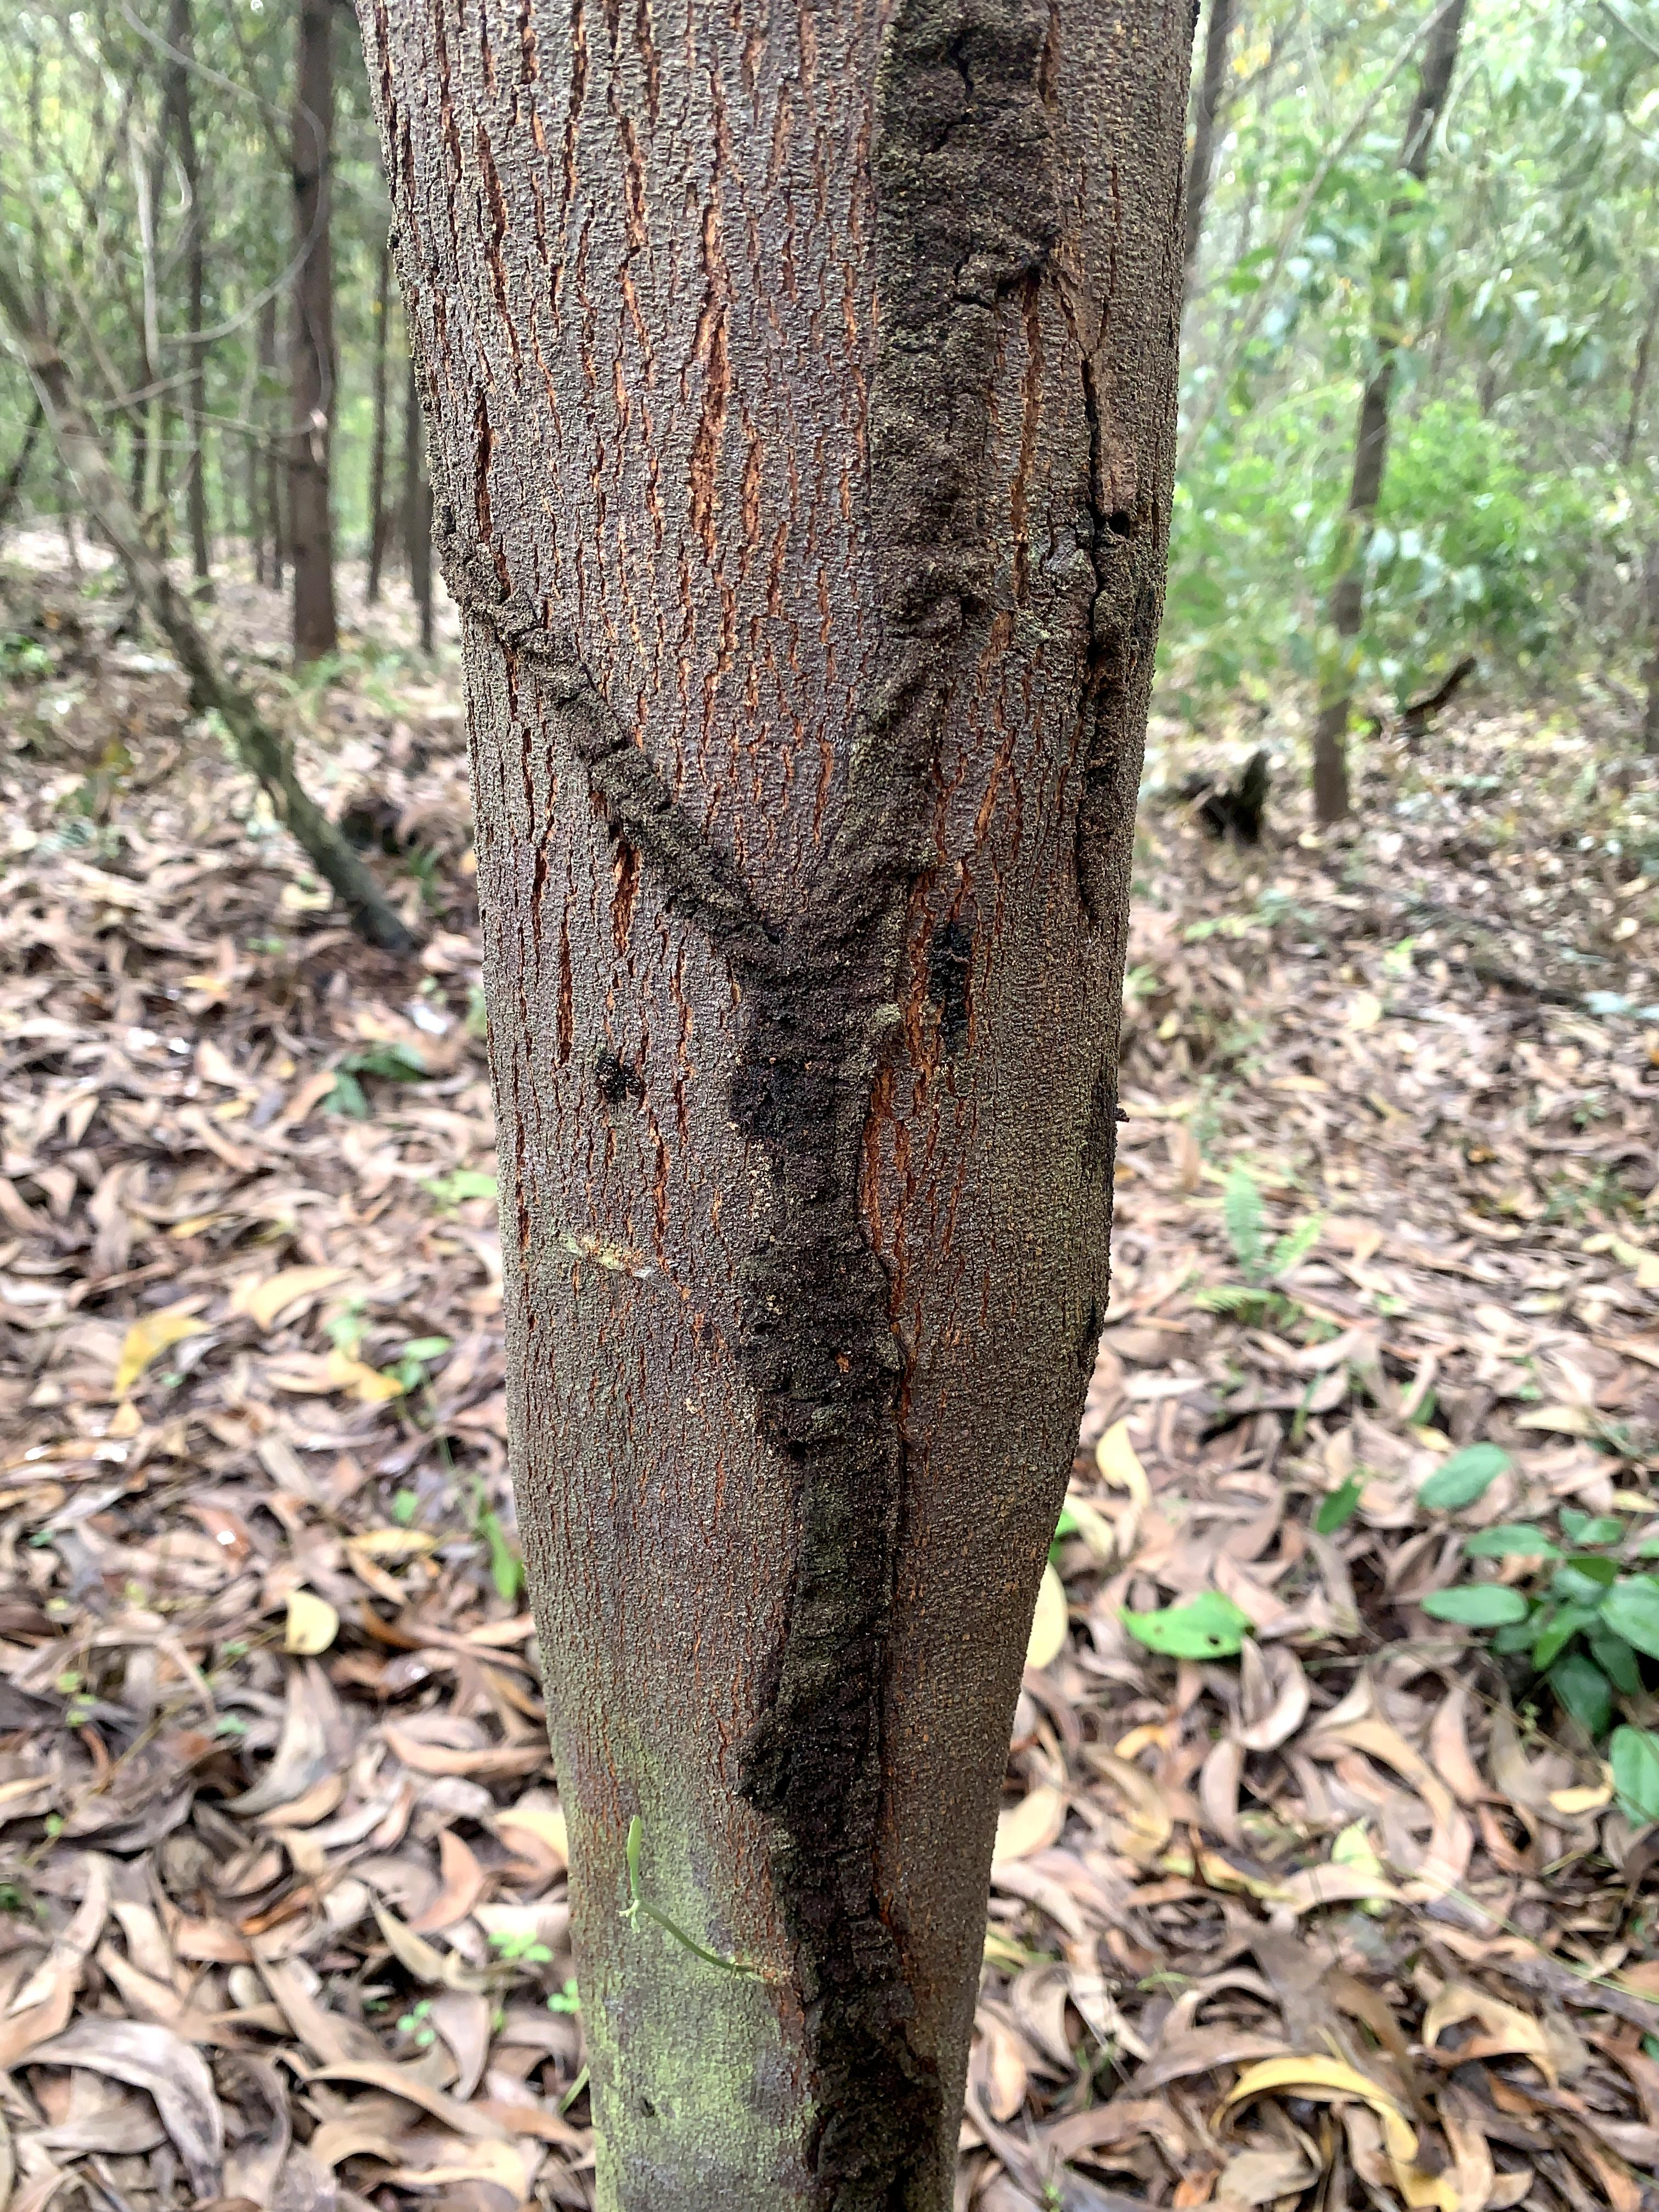Termite - Nest: (701, 819, 981, 2212)
